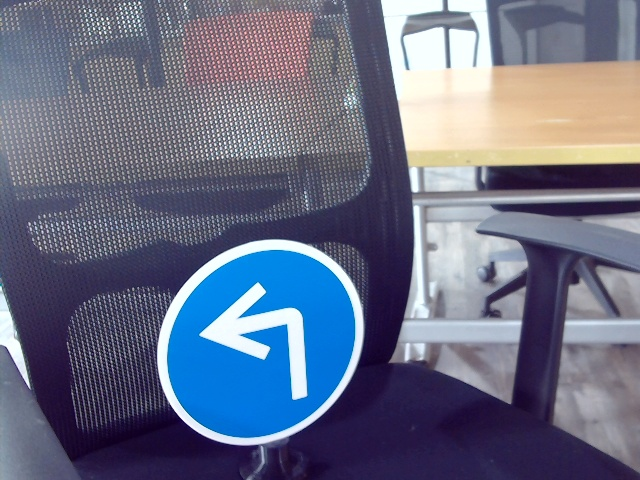turn_left: (201, 283, 320, 396)
